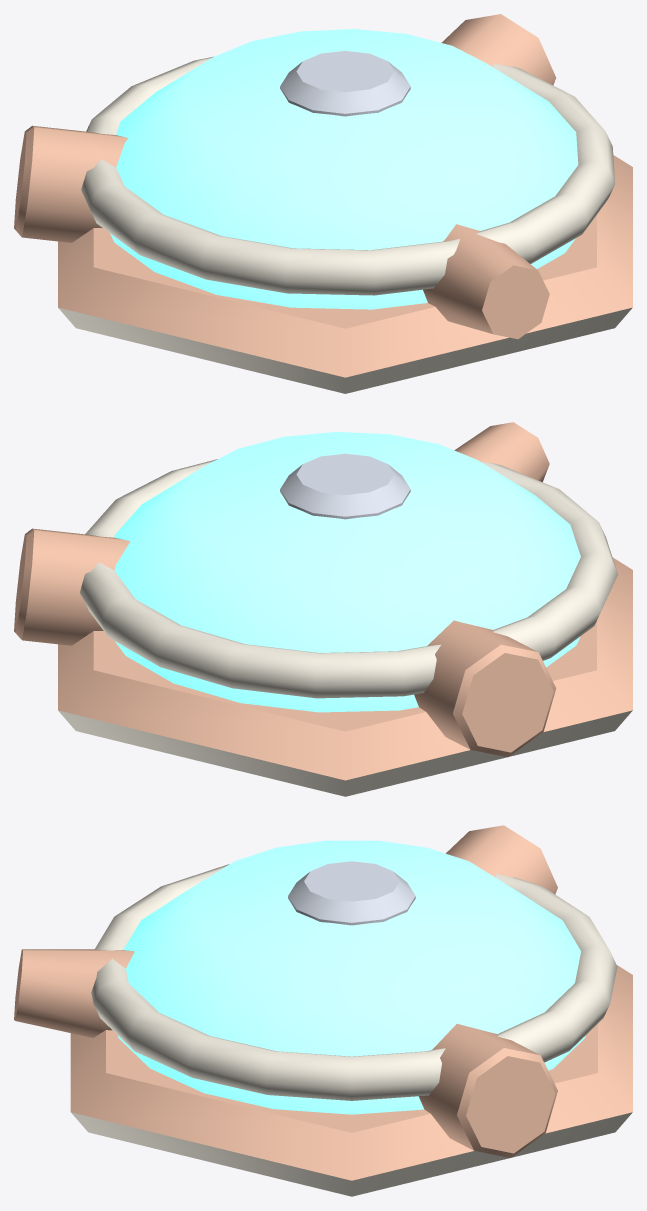
Rendered from R4D_SlowTrap.fbx.
3 renders of one model, top to bottom at view 1: azimuth 30°, elevation 25°; view 2: azimuth 150°, elevation 25°; view 3: azimuth 270°, elevation 25°, orthographic. The views are drawn at different scales.
Visible parts, largest first — view 1: R4D_SlowTrap_Body; view 2: R4D_SlowTrap_Body; view 3: R4D_SlowTrap_Body.
Part boxes in pixels (left/top/right/bottom): R4D_SlowTrap_Body: left=14, top=14, right=632, bottom=393; R4D_SlowTrap_Body: left=14, top=422, right=632, bottom=796; R4D_SlowTrap_Body: left=14, top=825, right=632, bottom=1196.
Size of the model in its own units: 0.48 by 0.1523 by 0.4576.
